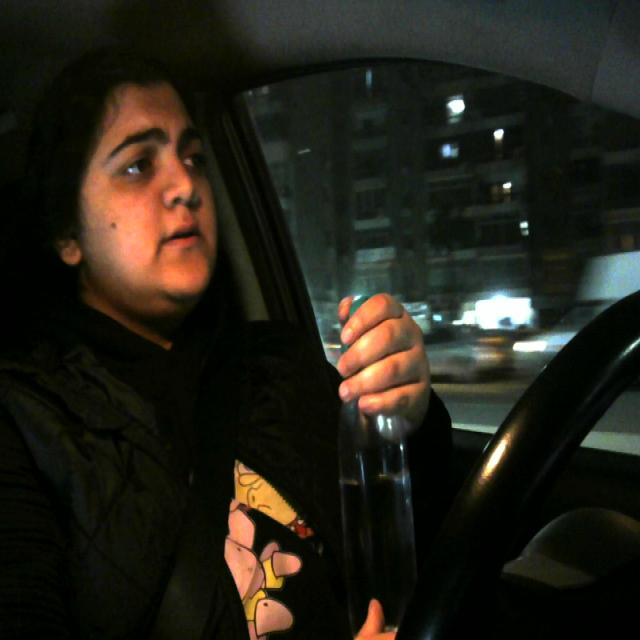drinking: (335, 276, 433, 552)
